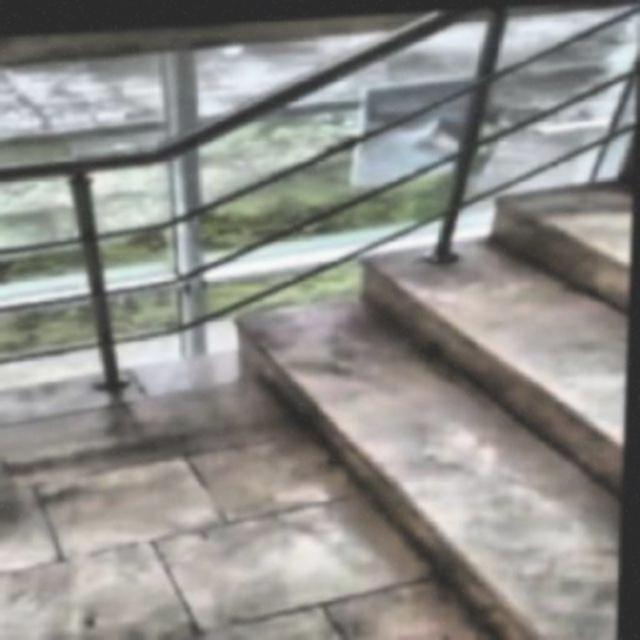stair: (178, 103, 636, 639)
